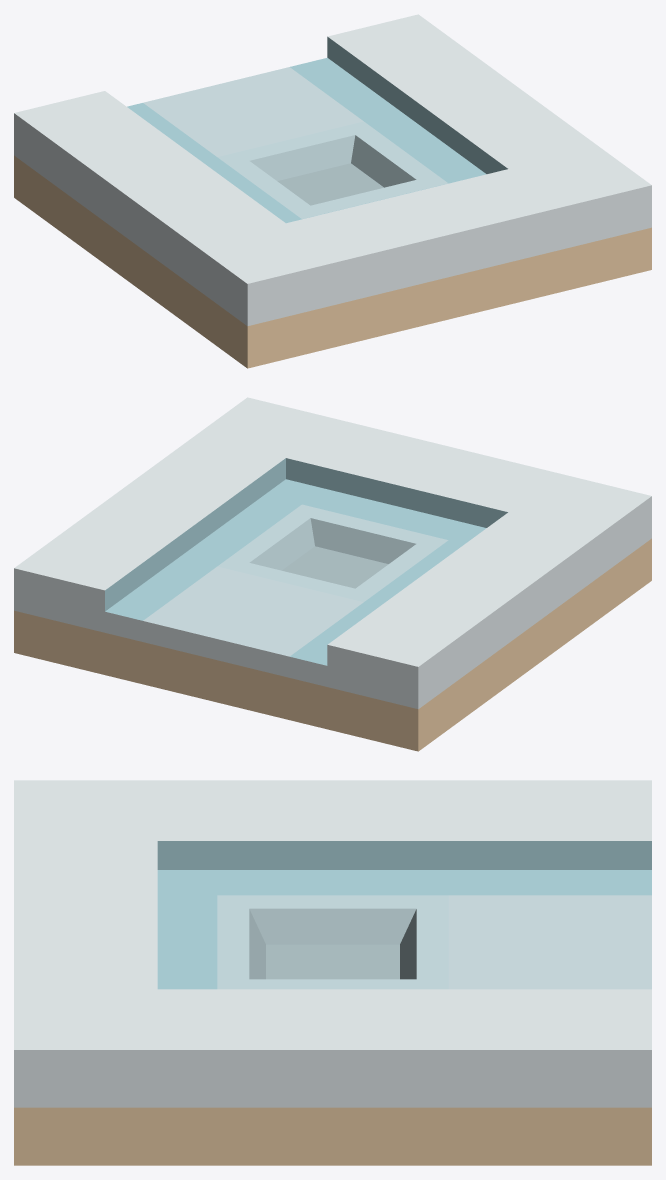
File: snow_tile_endSpawn.glb
3 views of the same model, one above another, from view 1: azimuth 30°, elevation 25°; view 2: azimuth 150°, elevation 25°; view 3: azimuth 270°, elevation 25° (orthographic). The views are drawn at different scales.
Parts seen in each view (by area): view 1: snow_tile_endSpawn; view 2: snow_tile_endSpawn; view 3: snow_tile_endSpawn.
Part boxes in pixels (x1,y1,x2,y2): snow_tile_endSpawn: [14, 14, 651, 368]; snow_tile_endSpawn: [14, 397, 651, 751]; snow_tile_endSpawn: [14, 780, 651, 1165].
Bounding box in the file's own units: 1 × 0.2 × 1.
